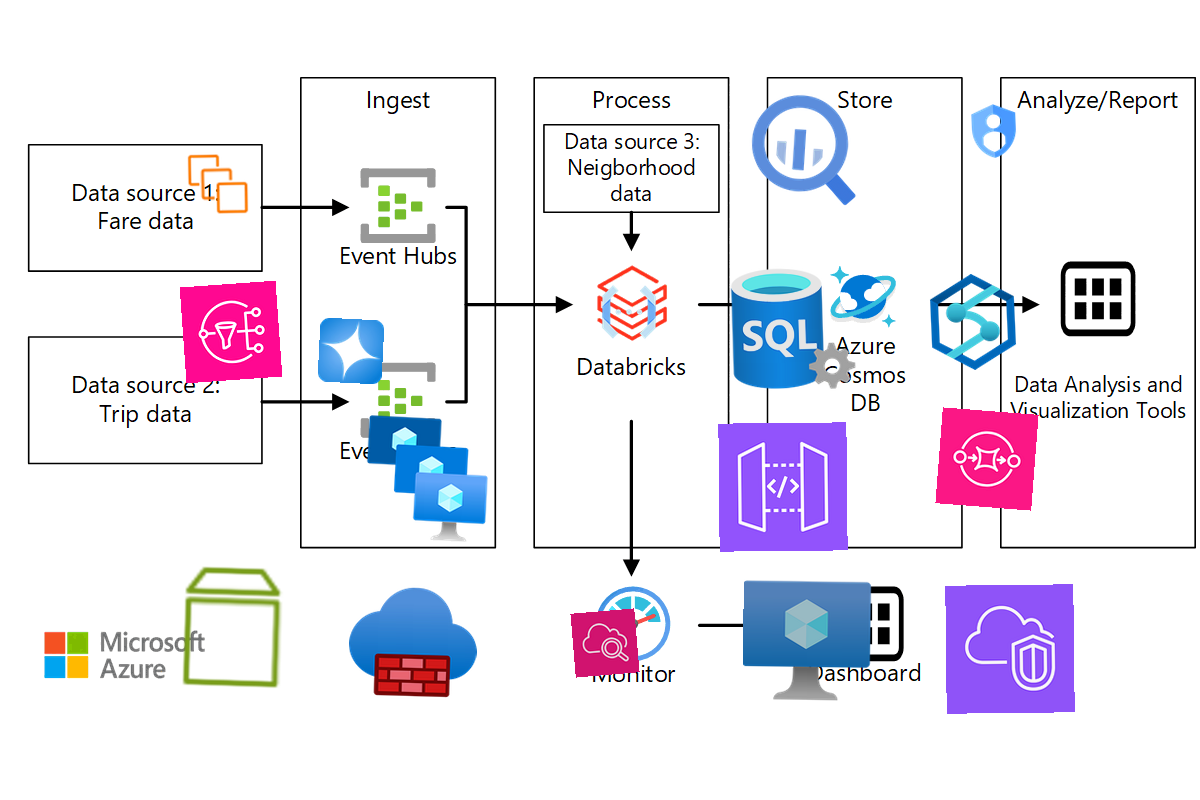aws_amazon_api_gateway: (718, 422, 848, 552)
aws_amazon_cloudwatch: (570, 608, 640, 678)
aws_amazon_simple_notification_service: (179, 280, 283, 384)
aws_amazon_simple_queue_service: (935, 407, 1039, 511)
aws_amazon_virtual_private_cloud: (945, 584, 1075, 714)
aws_ec2_instances: (185, 151, 251, 217)
aws_elastic_block_store_volume: (167, 561, 299, 693)
azure_firewalls: (347, 576, 479, 708)
azure_openai: (317, 317, 385, 385)
azure_sql_server: (727, 263, 859, 395)
azure_synapse_analytics: (922, 271, 1024, 373)
azure_virtual_machine: (742, 579, 872, 709)
azure_vm_scale_sets: (357, 408, 493, 544)
gcp_bigquery: (737, 81, 873, 217)
gcp_cloud_functions: (596, 279, 662, 345)
gcp_identity_and_access_management: (960, 97, 1028, 165)
